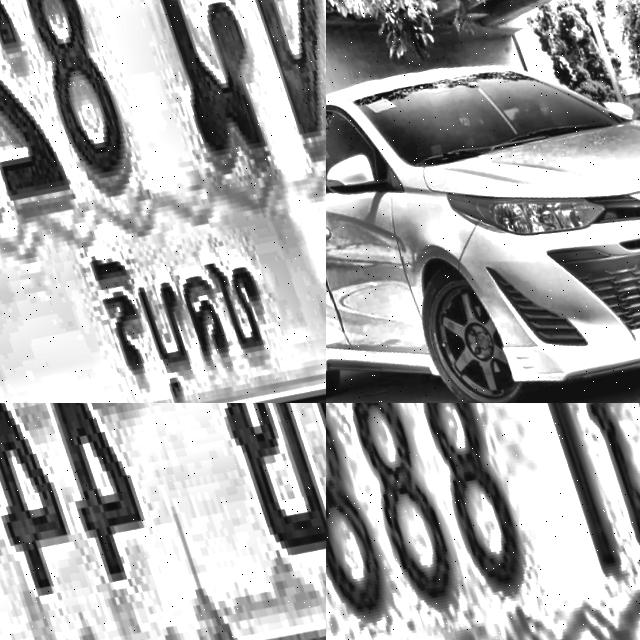license-plate: (0, 0, 326, 403), (0, 403, 326, 640), (326, 403, 640, 640)
